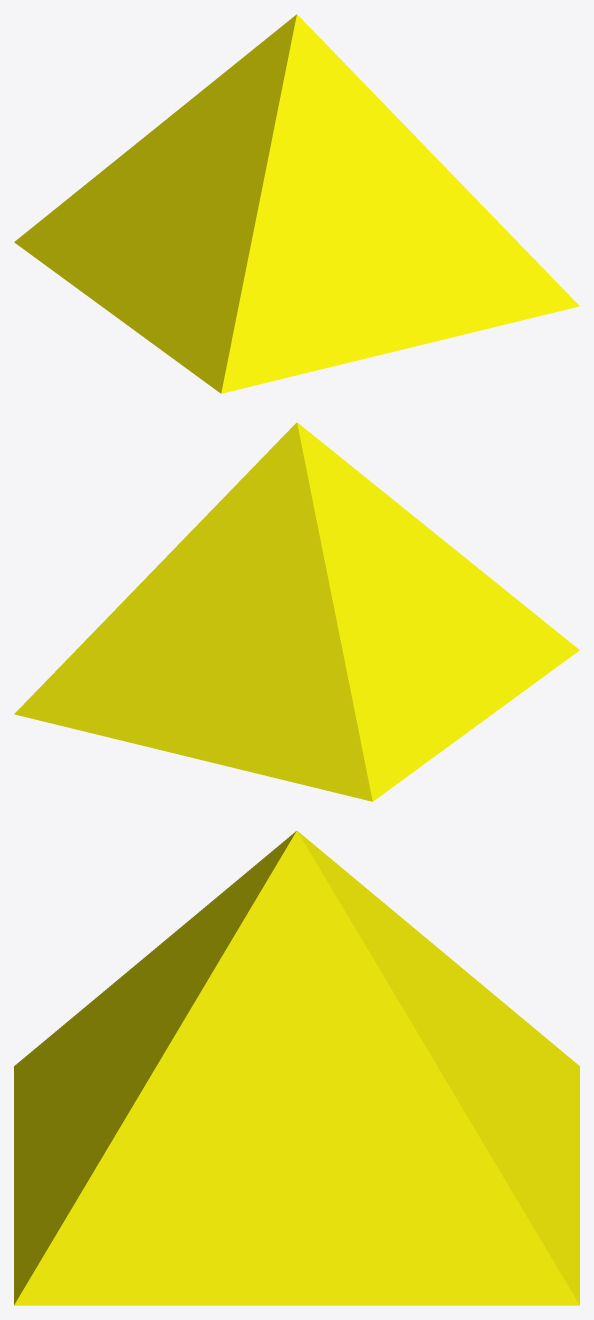
File: g_lim.glb
The picture shows the model from 3 angles, top to bottom: view 1: azimuth 30°, elevation 25°; view 2: azimuth 150°, elevation 25°; view 3: azimuth 270°, elevation 25°; orthographic projection. The views are drawn at different scales.
Visible parts, largest first — view 1: Object_2; view 2: Object_2; view 3: Object_2.
Boxes of the visible parts, x1,y1,x2,y2 form: Object_2: (14,14,579,393); Object_2: (14,422,579,801); Object_2: (14,831,579,1305).
Size of the model in its own units: 60.51 by 41.92 by 60.51.
